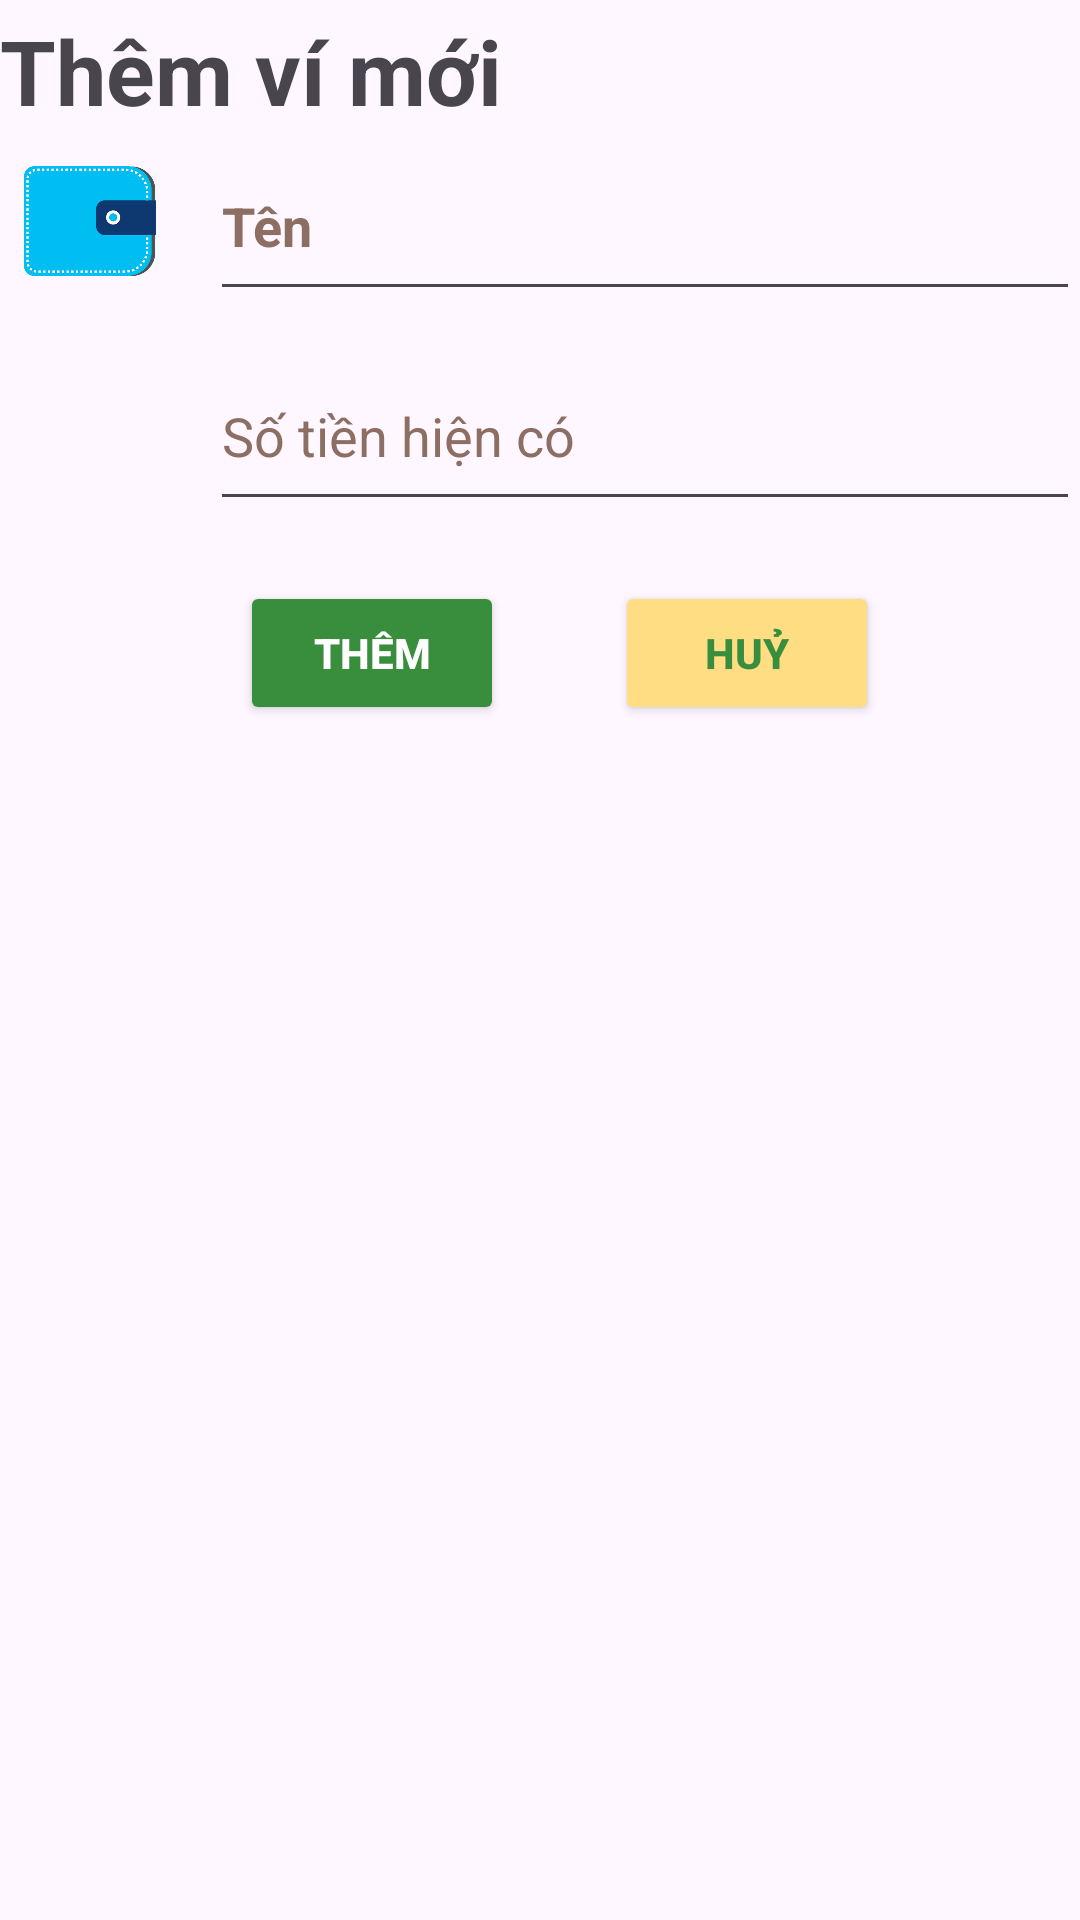

Screen size 1080*1920. Icon name, then its center in pixels as (x,y):
wallet: (90,221)
